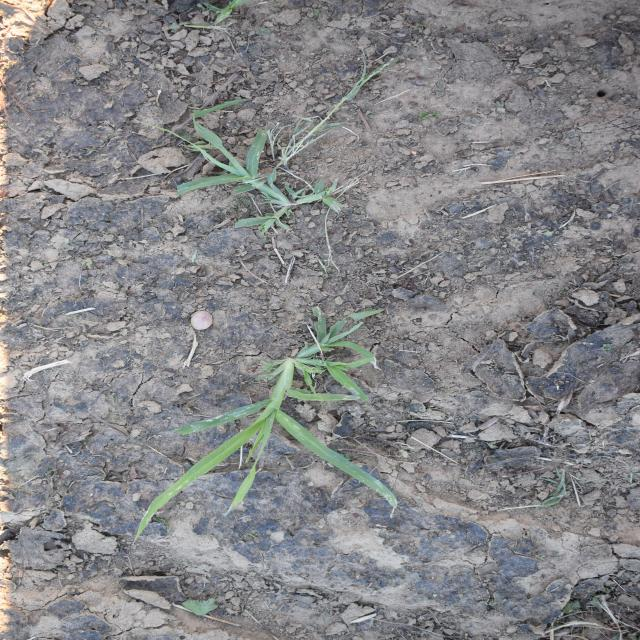Goosegrass: (133, 306, 400, 546), (132, 98, 346, 237)
